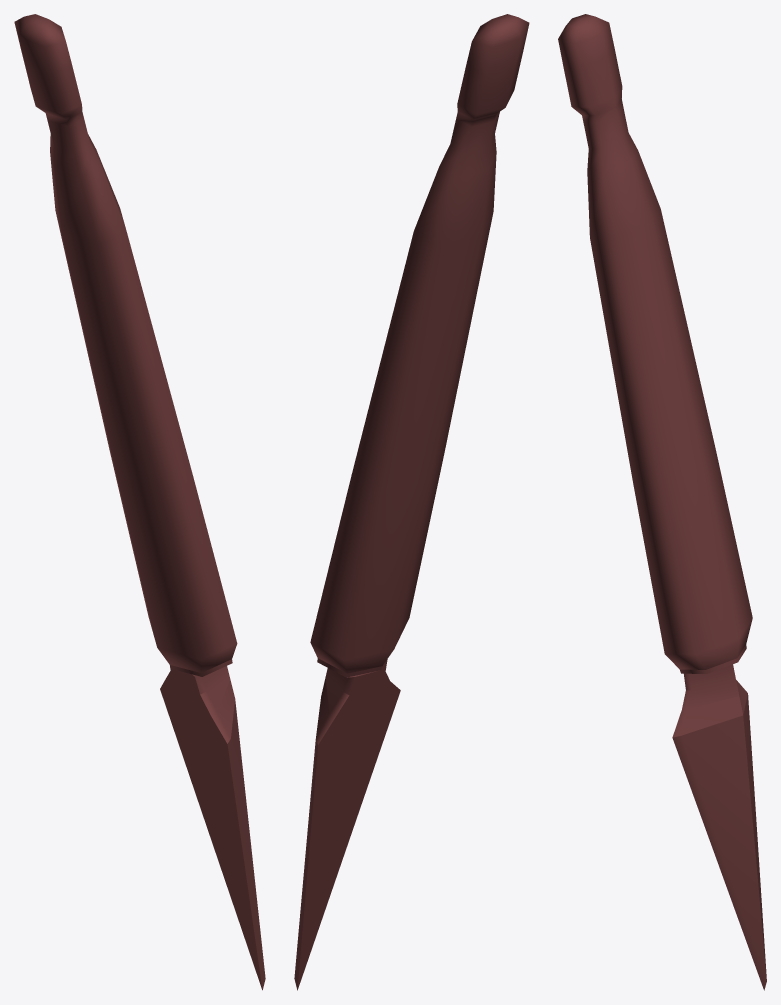
Rendered from BisturiV5.fbx.
3 views of the same model, side by side, from view 1: azimuth 30°, elevation 25°; view 2: azimuth 150°, elevation 25°; view 3: azimuth 330°, elevation 25° (orthographic). The views are drawn at different scales.
Parts seen in each view (by area): view 1: Scapel; view 2: Scapel; view 3: Scapel.
Part boxes in pixels (x1,y1,x2,y2): Scapel: [14, 14, 265, 990]; Scapel: [294, 14, 529, 990]; Scapel: [558, 14, 766, 990].
Size of the model in its own units: 3.96 by 16.34 by 2.17.
